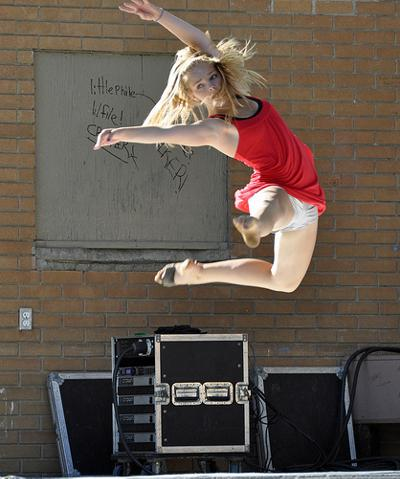person: (93, 3, 323, 295)
